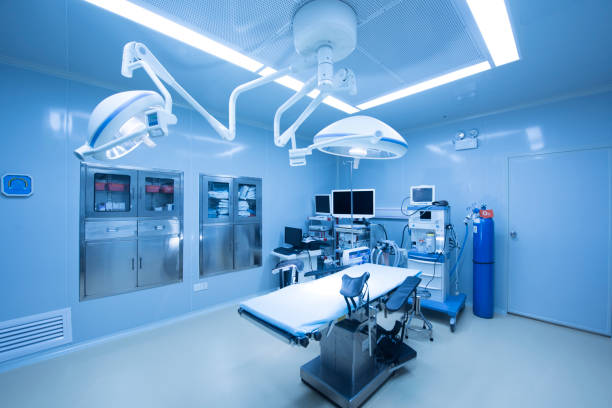bedside_monitor: (330, 188, 375, 219), (314, 194, 331, 216)
bedside_table: (407, 185, 437, 205)
breathing_tube: (370, 241, 398, 264)
cabinet: (78, 159, 186, 300), (198, 175, 263, 274)
computer: (271, 225, 304, 255)
door_handle: (506, 223, 519, 244)
handle: (235, 239, 240, 251), (229, 239, 234, 251), (139, 257, 144, 269), (131, 258, 135, 270)
keyboard: (278, 246, 294, 255)
operating_bed: (238, 263, 424, 408)
surgical_light: (73, 90, 178, 163), (312, 115, 409, 162)
ventilator: (406, 205, 461, 307)
